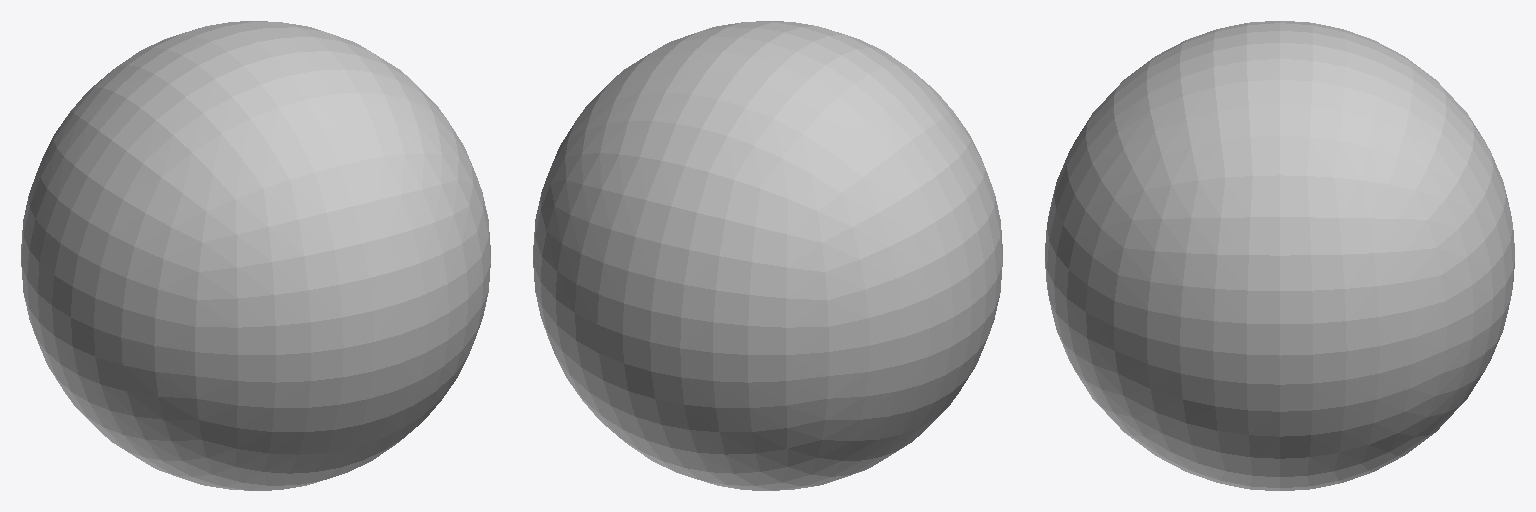
The model's file is Heart.obj.
3 views of the same model, side by side, from view 1: azimuth 30°, elevation 25°; view 2: azimuth 150°, elevation 25°; view 3: azimuth 270°, elevation 25° (orthographic).
Visible parts, largest first — view 1: Marble group1; view 2: Marble group1; view 3: Marble group1.
Boxes of the visible parts, <box> form: Marble group1: <box>21,21,490,490</box>; Marble group1: <box>533,21,1002,490</box>; Marble group1: <box>1045,21,1514,490</box>.
Size of the model in its own units: 3.36 by 3.36 by 3.36.